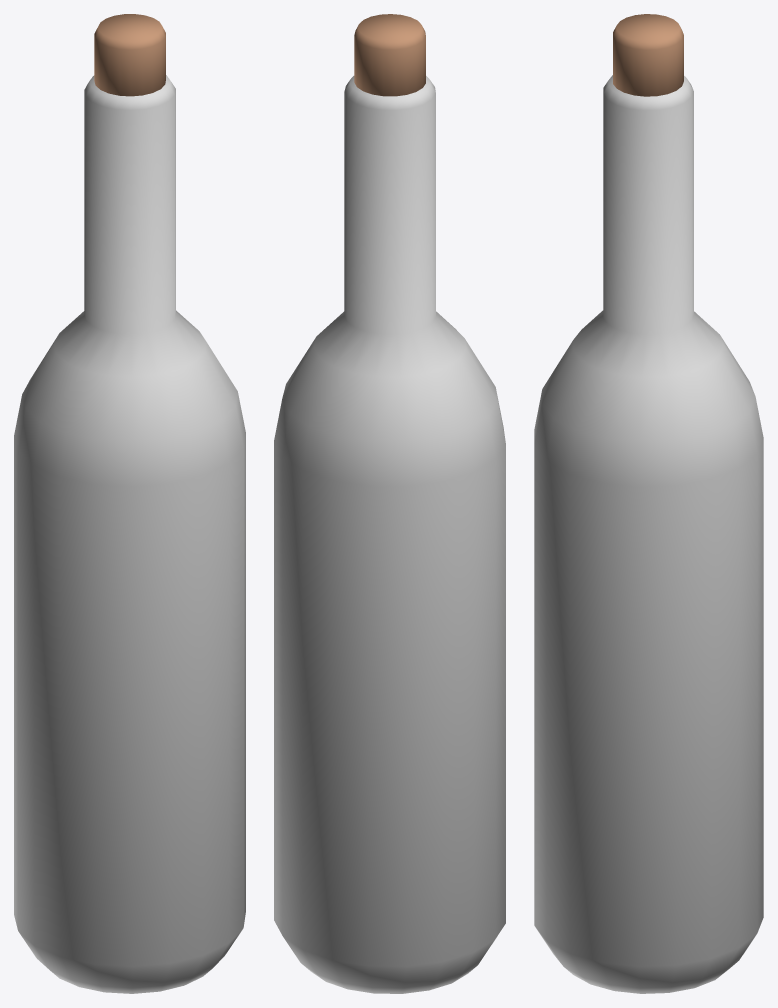
The model's file is mdl_Oil.fbx.
3 renders of one model, left to right at view 1: azimuth 30°, elevation 25°; view 2: azimuth 150°, elevation 25°; view 3: azimuth 270°, elevation 25°, orthographic.
Parts seen in each view (by area): view 1: Circle.005; view 2: Circle.005; view 3: Circle.005.
Boxes of the visible parts, x1,y1,x2,y2 form: Circle.005: (14, 14, 245, 993); Circle.005: (274, 14, 505, 993); Circle.005: (534, 14, 763, 993).
Bounding box in the file's own units: 58.05 × 256 × 57.29.
